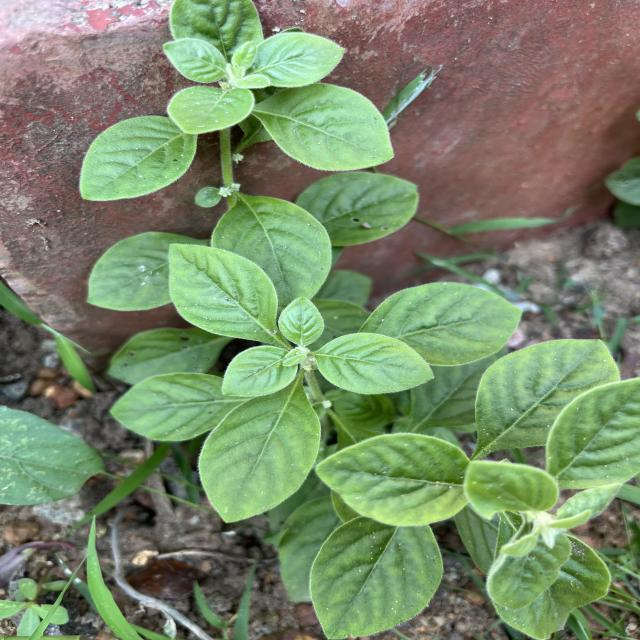Aerva lanata: (194, 388, 324, 524), (250, 77, 398, 176), (166, 241, 284, 350), (75, 110, 201, 203), (316, 330, 439, 398)
